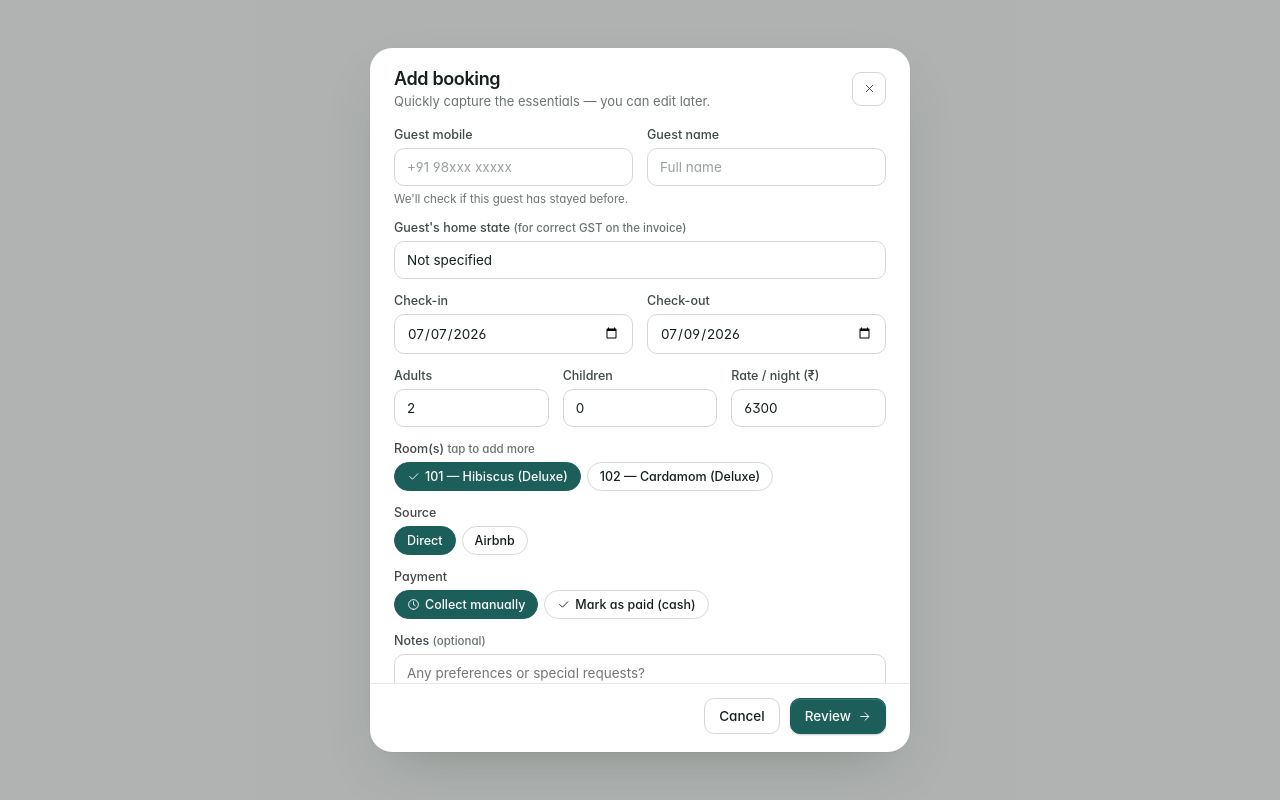
it: QuickAdd › supports selecting multiple rooms for a group booking
This screenshot has width=1280, height=800.
Step 1. Click the button "102 — Cardamom (Deluxe)" → (680, 476), box [587, 462, 773, 491]
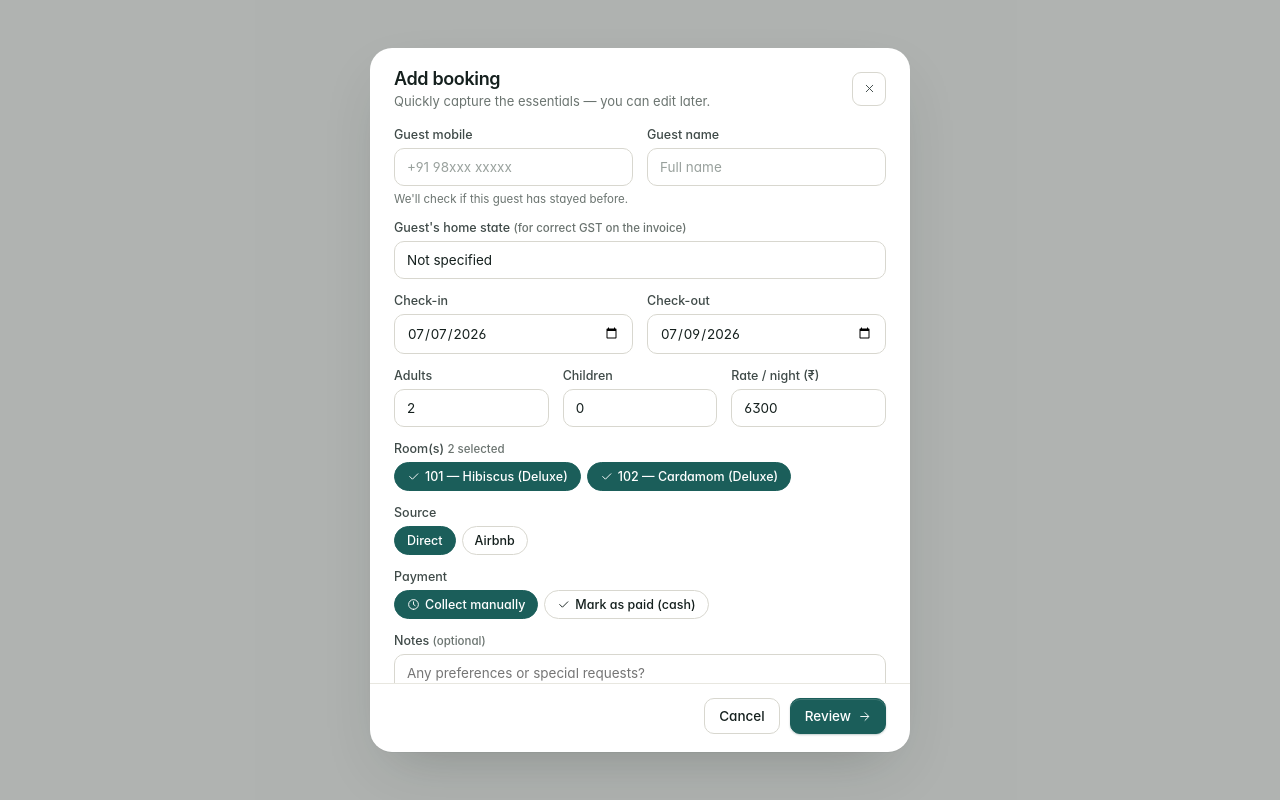
Expected: the text "2 selected" is shown, [447, 442, 504, 456]
